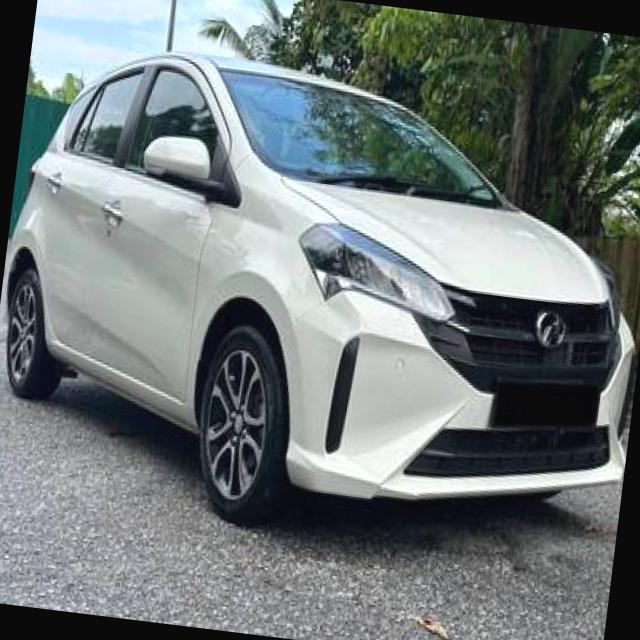PeroduaMyvi: (0, 26, 640, 569)
